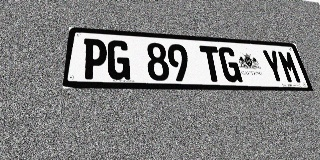8: (146, 42, 170, 81)
9: (167, 43, 191, 81)
G: (107, 40, 130, 80), (217, 47, 243, 82)
M: (276, 50, 303, 83)
P: (81, 38, 107, 80)
T: (199, 46, 224, 82)
Y: (261, 49, 287, 83)
